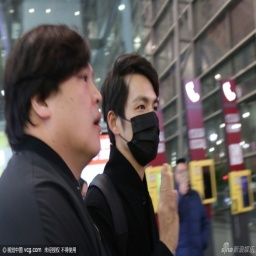correctlyWear: (106, 87, 160, 167)
noWear: (29, 61, 103, 156), (175, 162, 190, 185)
